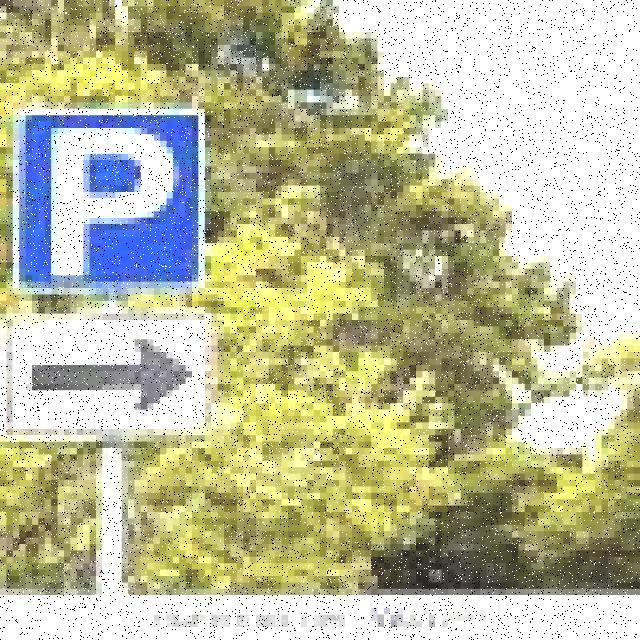Traffic sign: (0, 102, 220, 446)
